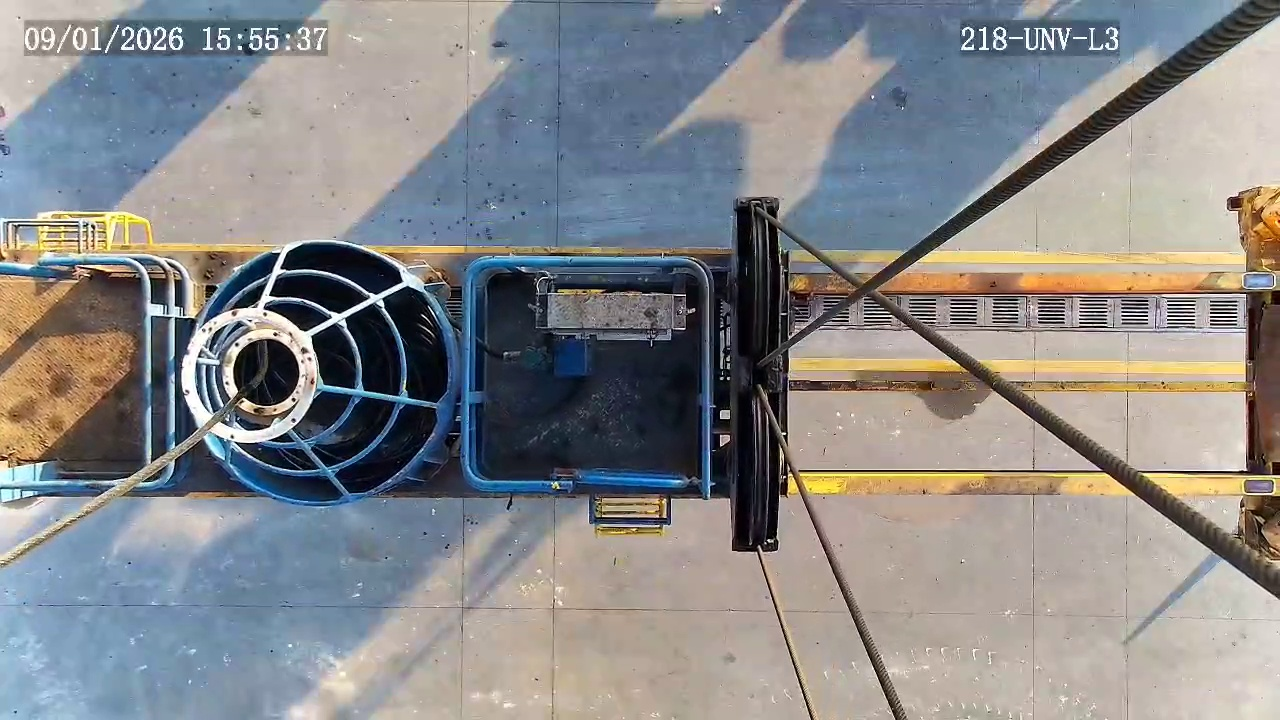right: (181, 310, 318, 443)
